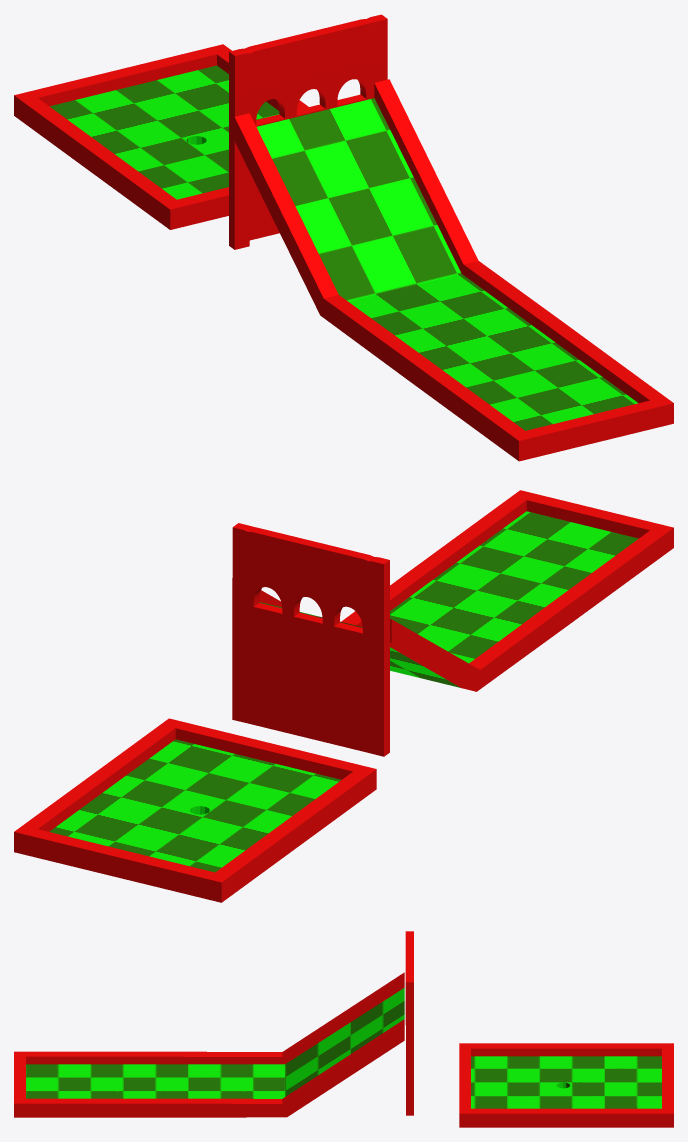
The model's file is Track6 1.fbx.
3 views of the same model, one above another, from view 1: azimuth 30°, elevation 25°; view 2: azimuth 150°, elevation 25°; view 3: azimuth 270°, elevation 25° (orthographic). The views are drawn at different scales.
Visible parts, largest first — view 1: Track6_Track, Track6_Boundary; view 2: Track6_Boundary, Track6_Track; view 3: Track6_Boundary, Track6_Track.
Part boxes in pixels (x1,y1,x2,y2): Track6_Track: (50,65,637,430); Track6_Boundary: (14,14,673,461); Track6_Boundary: (14,490,673,902); Track6_Track: (49,511,638,872); Track6_Boundary: (14,931,673,1127); Track6_Track: (26,988,661,1108).
Bounding box in the file's own units: 118 × 105 × 467.
